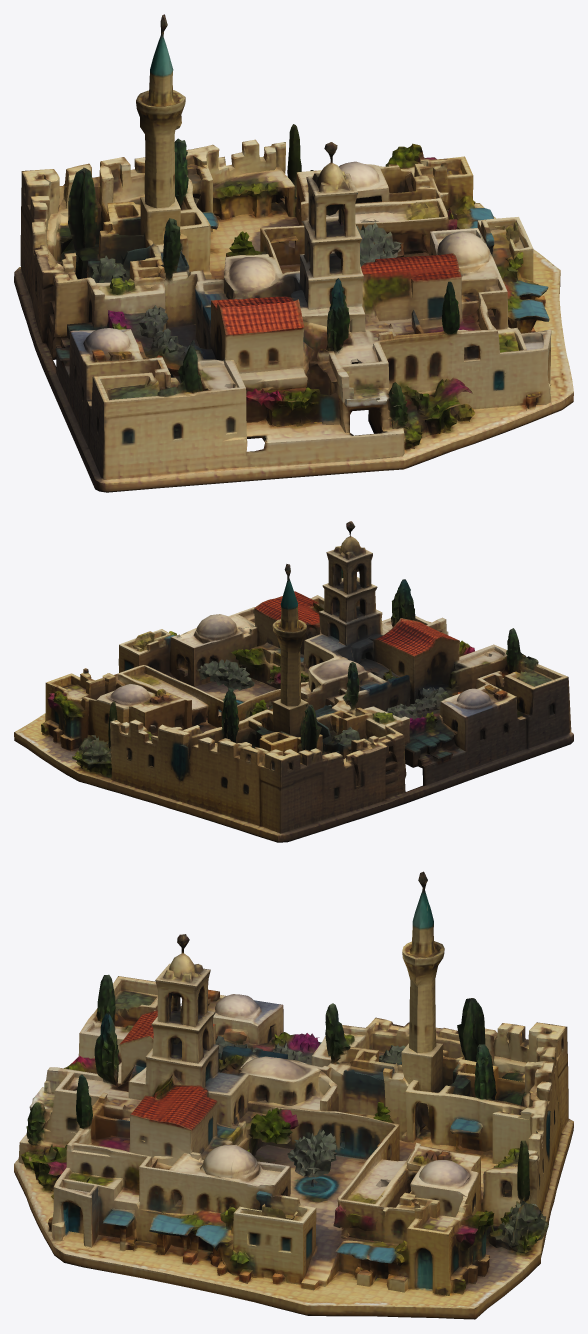
File: city_jerusalem_stone.glb
3 renders of one model, top to bottom at view 1: azimuth 30°, elevation 25°; view 2: azimuth 150°, elevation 25°; view 3: azimuth 270°, elevation 25°, orthographic. The views are drawn at different scales.
Parts seen in each view (by area): view 1: geometry_0; view 2: geometry_0; view 3: geometry_0.
Boxes of the visible parts, <box> form: geometry_0: <box>14,14,573,492</box>; geometry_0: <box>14,521,573,842</box>; geometry_0: <box>14,871,573,1319</box>.
Bounding box in the file's own units: 0.9887 × 0.5056 × 0.884.
Materials: 1 (1 with a texture image).
